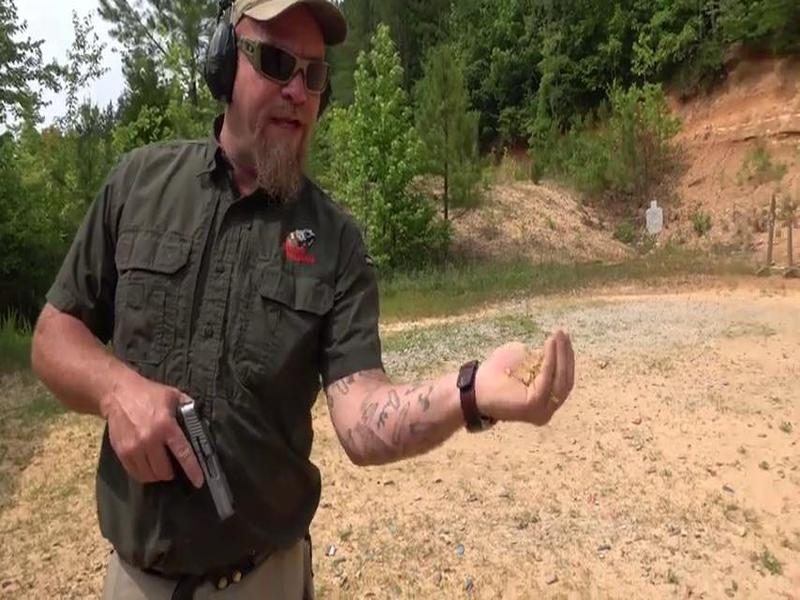Pistola: (143, 361, 262, 541)
